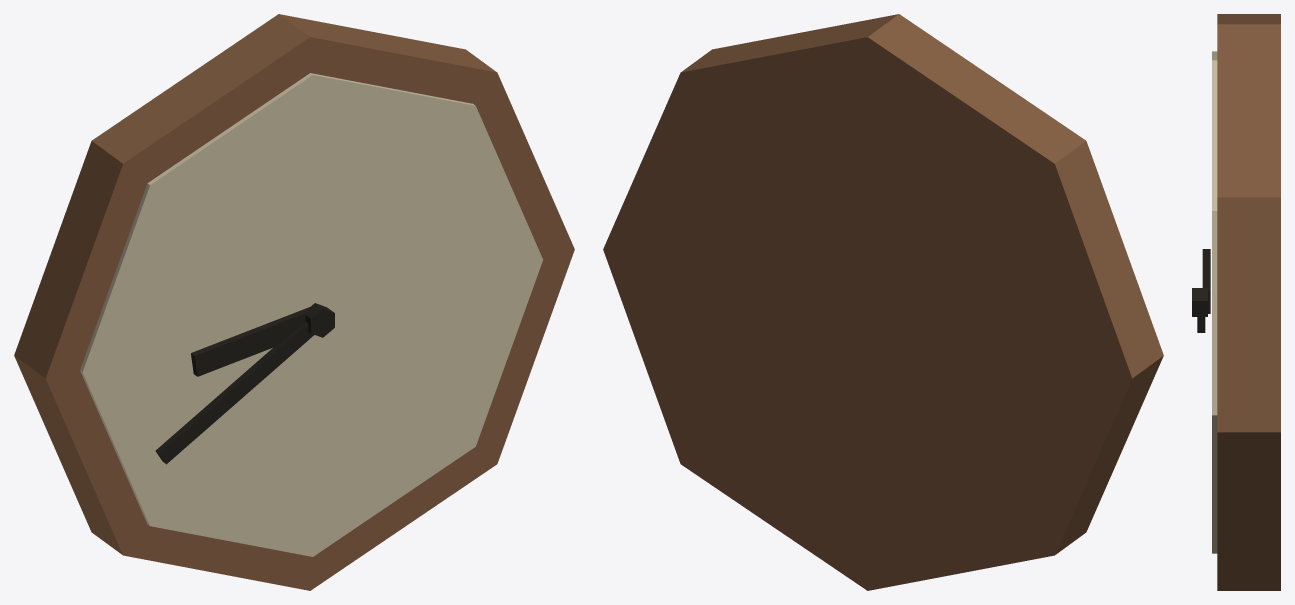
Rendered from wall-clock-10.glb.
3 views of the same model, side by side, from view 1: azimuth 30°, elevation 25°; view 2: azimuth 150°, elevation 25°; view 3: azimuth 270°, elevation 25° (orthographic).
Parts seen in each view (by area): view 1: wall_clock_10; view 2: wall_clock_10; view 3: wall_clock_10.
Boxes of the visible parts, x1,y1,x2,y2 form: wall_clock_10: [14, 14, 574, 590]; wall_clock_10: [603, 14, 1163, 590]; wall_clock_10: [1192, 14, 1280, 590].
Size of the model in its own units: 0.4572 by 0.4572 by 0.0663.
